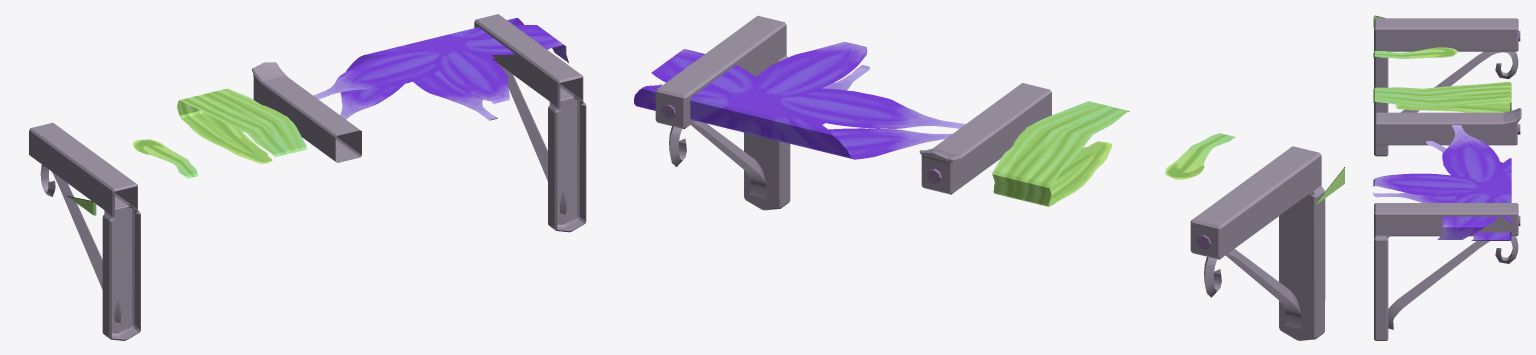
File: LongShelf.fbx
3 renders of one model, left to right at view 1: azimuth 30°, elevation 25°; view 2: azimuth 150°, elevation 25°; view 3: azimuth 270°, elevation 25°, orthographic. The views are drawn at different scales.
Parts seen in each view (by area): view 1: LongShelf; view 2: LongShelf; view 3: LongShelf.
Part boxes in pixels (x1,y1,x2,y2): LongShelf: (29,14,586,340); LongShelf: (634,15,1344,340); LongShelf: (1373,15,1521,340).
Size of the model in its own units: 124 by 37.29 by 36.64.
